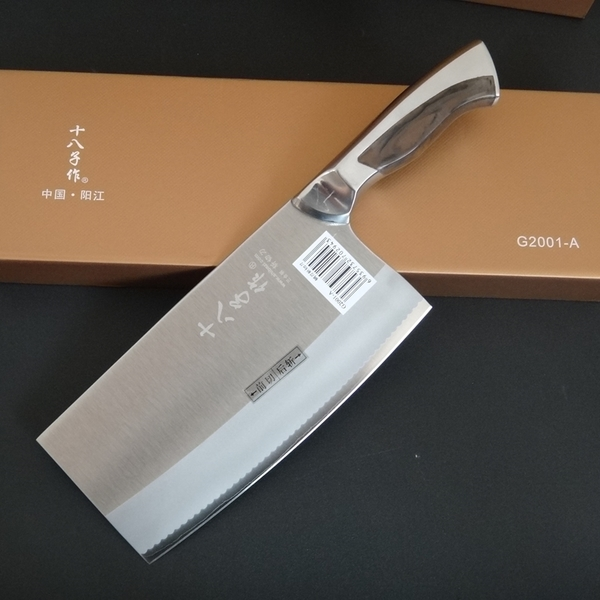knief: (20, 41, 515, 554)
